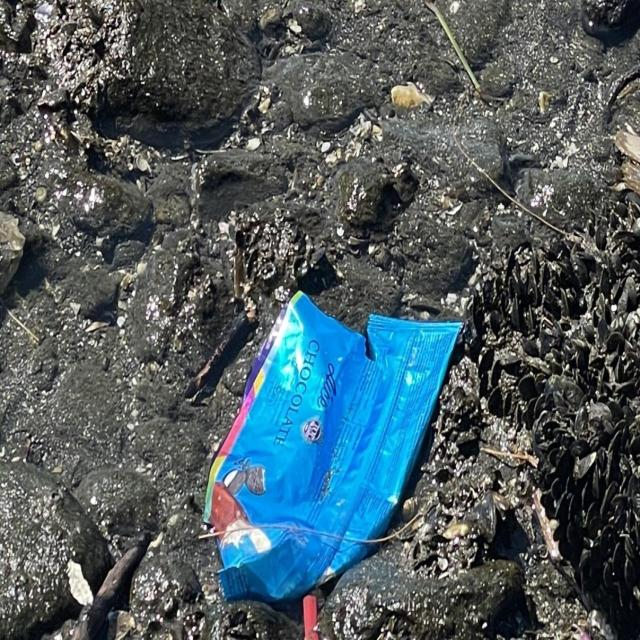plastic_waste: (202, 288, 464, 612)
